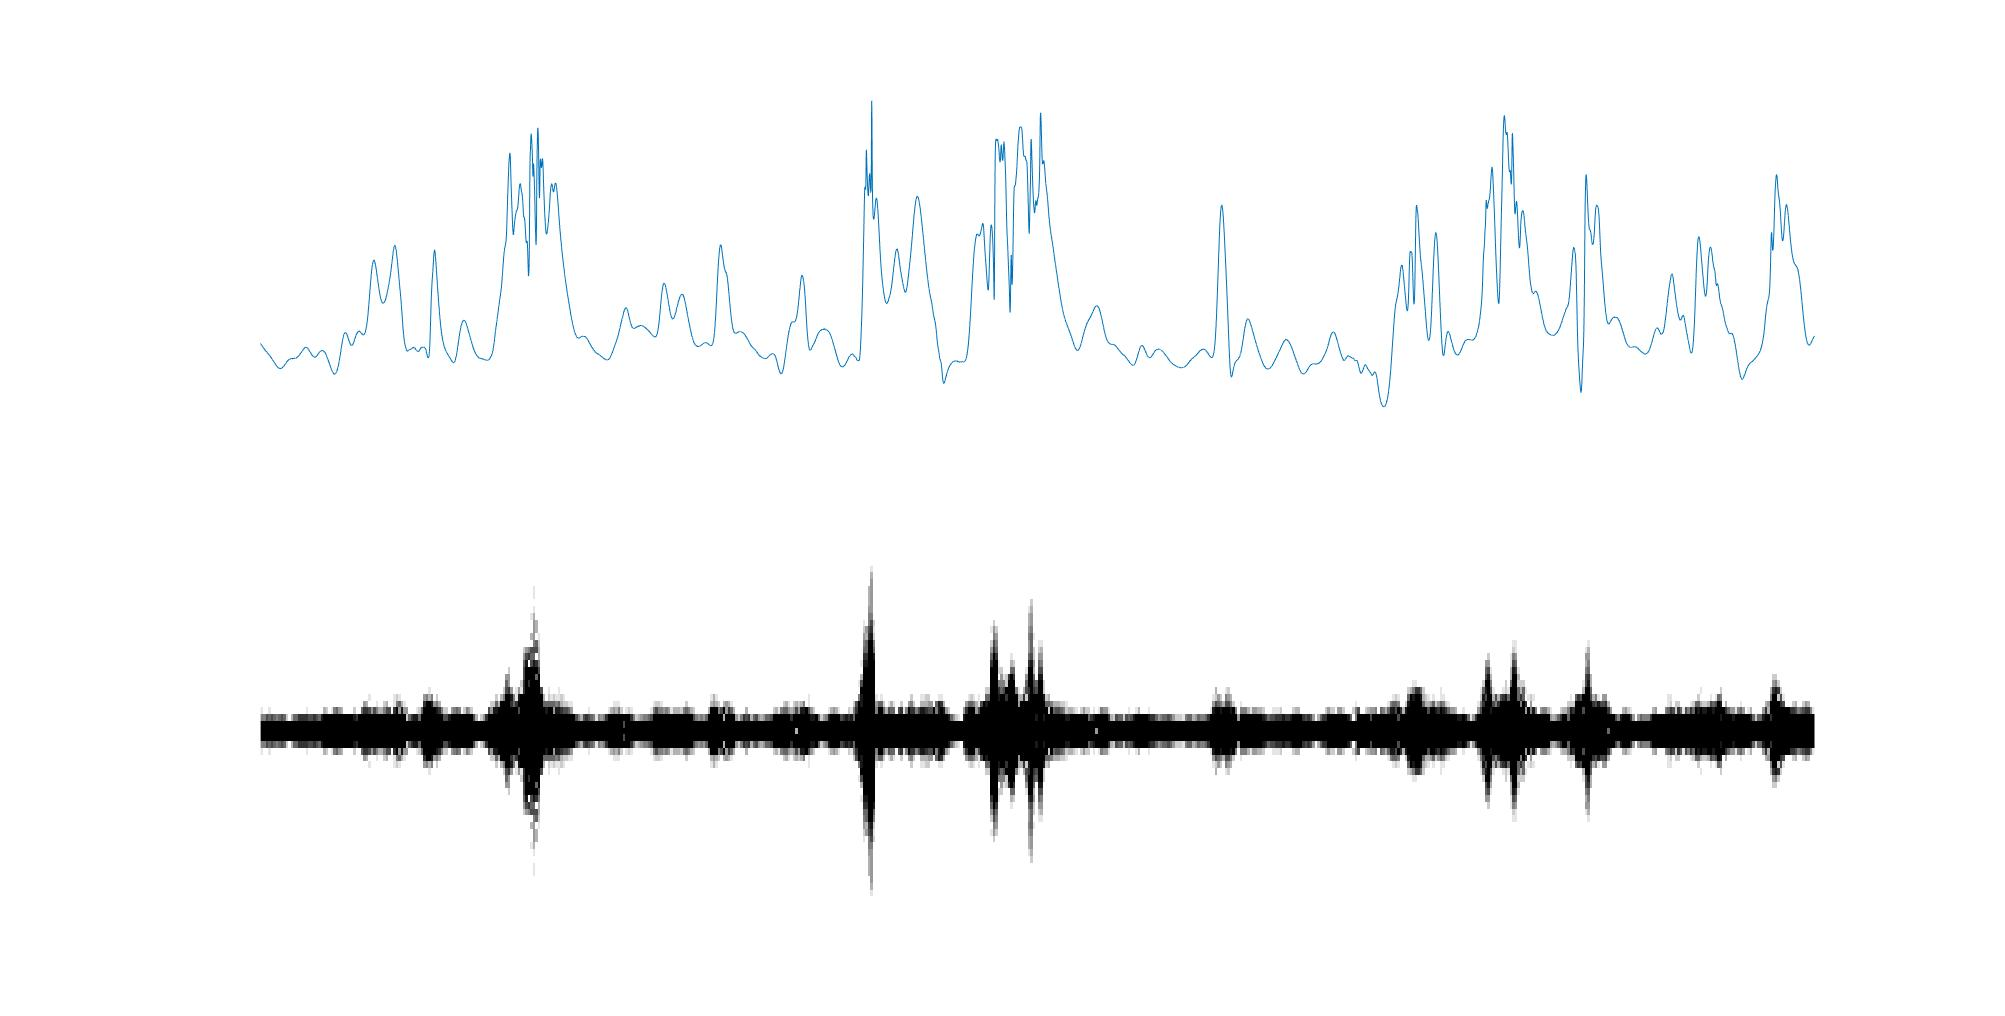spot: (984, 600, 1056, 868), (503, 609, 553, 857), (854, 569, 890, 883)
